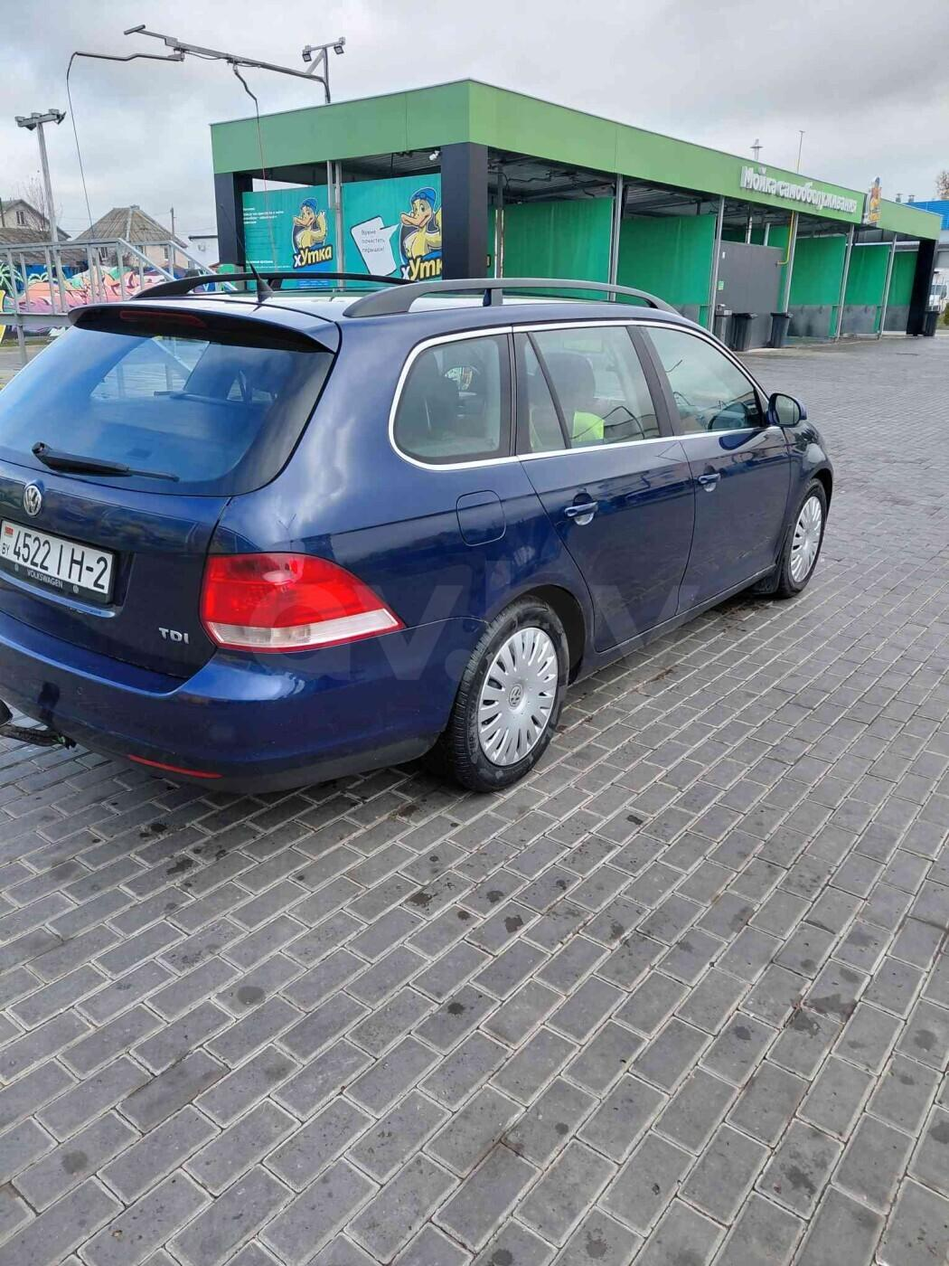Golf_2003-2009: (0, 269, 841, 810)
